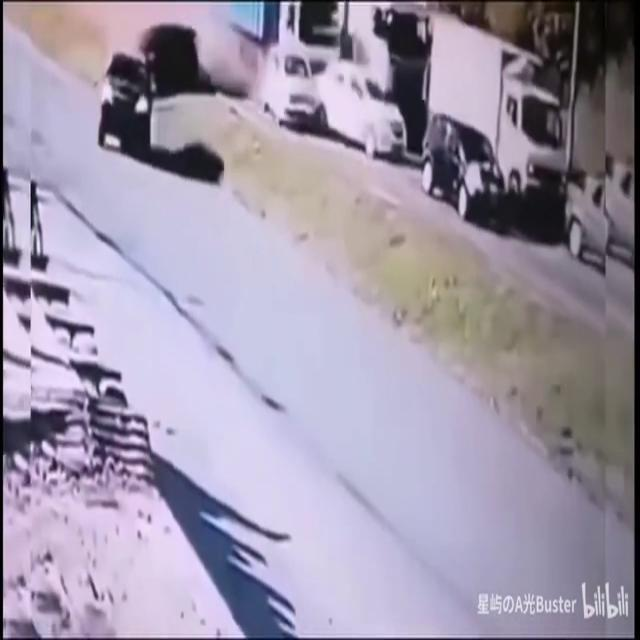multiple_accident: (21, 7, 605, 257)
